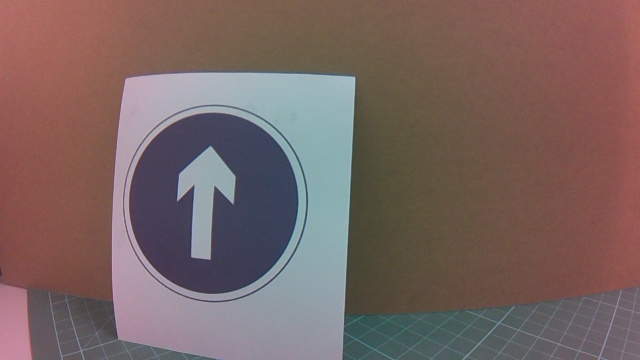forward: (134, 100, 317, 306)
